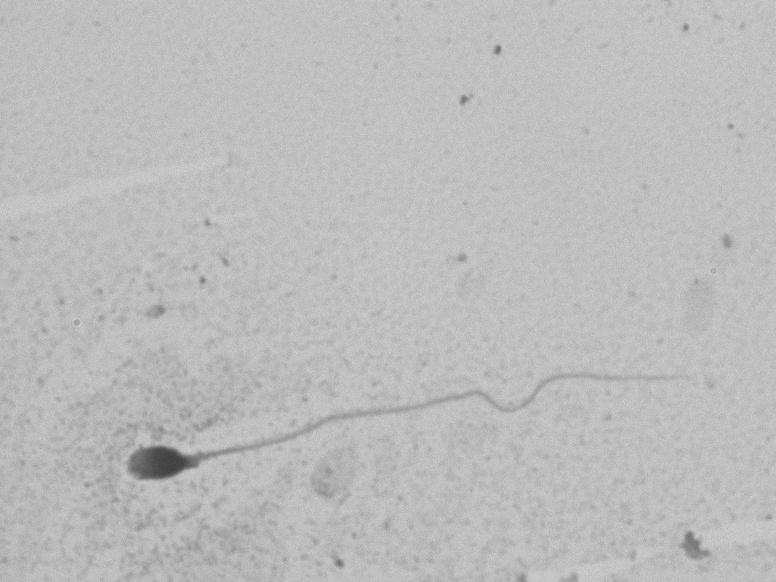Normal: (100, 308, 721, 510)
